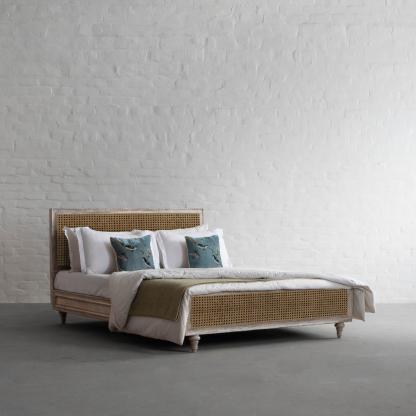bed: (37, 187, 378, 364)
